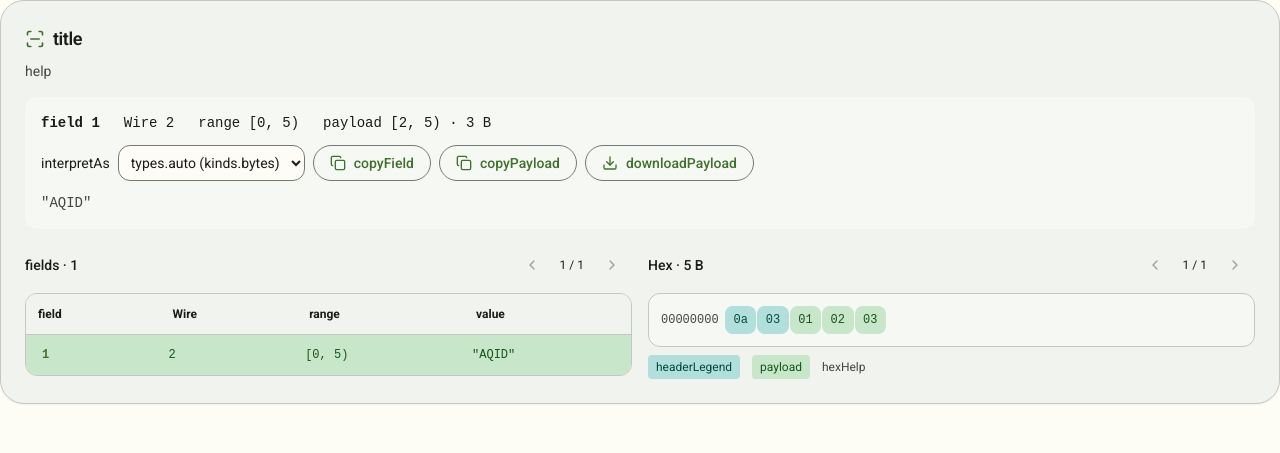
Test case: Protobuf inspector › updates the JSON interpretation and preserves the previous result on invalid packed data
This screenshot has width=1280, height=453.
Select "types.packedSint" in the dropdown at x=211, y=163, box x1=118 y1=145 x2=305 y2=181
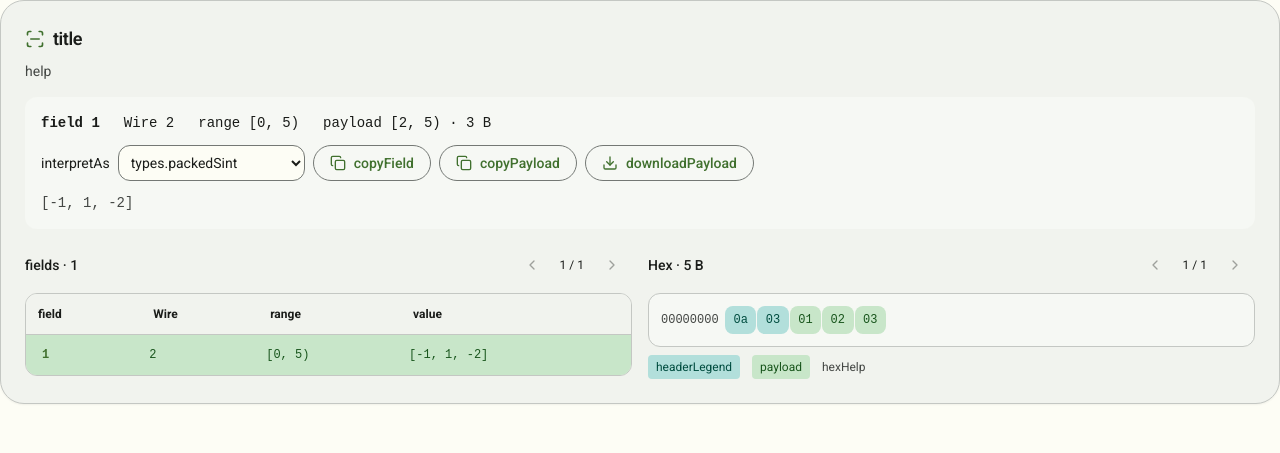
Select "types.packedFloat" in the dropdown at x=211, y=163, box x1=118 y1=145 x2=305 y2=181
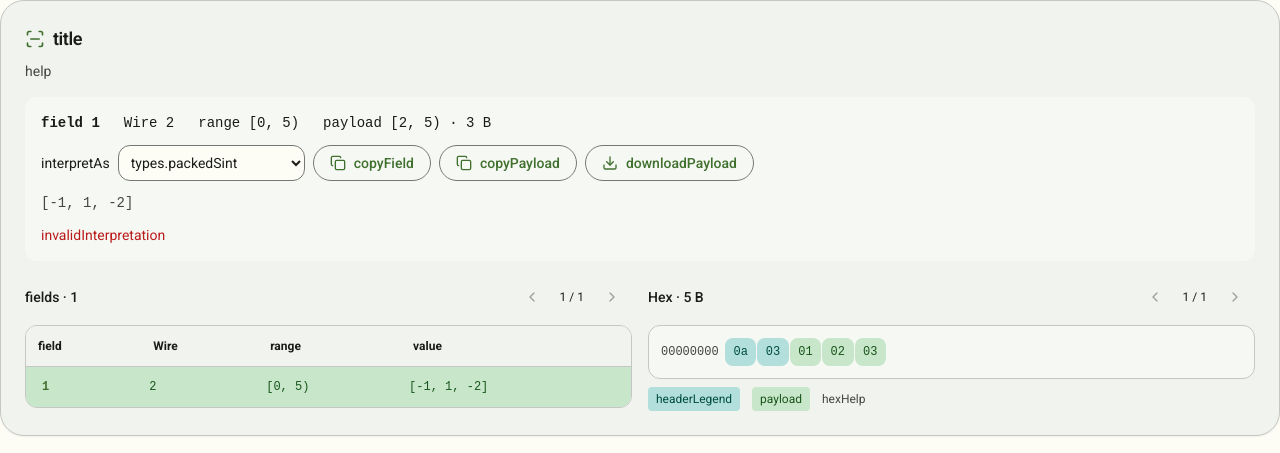
Check: the message reads "invalidInterpretation", box x1=41 y1=227 x2=165 y2=243
